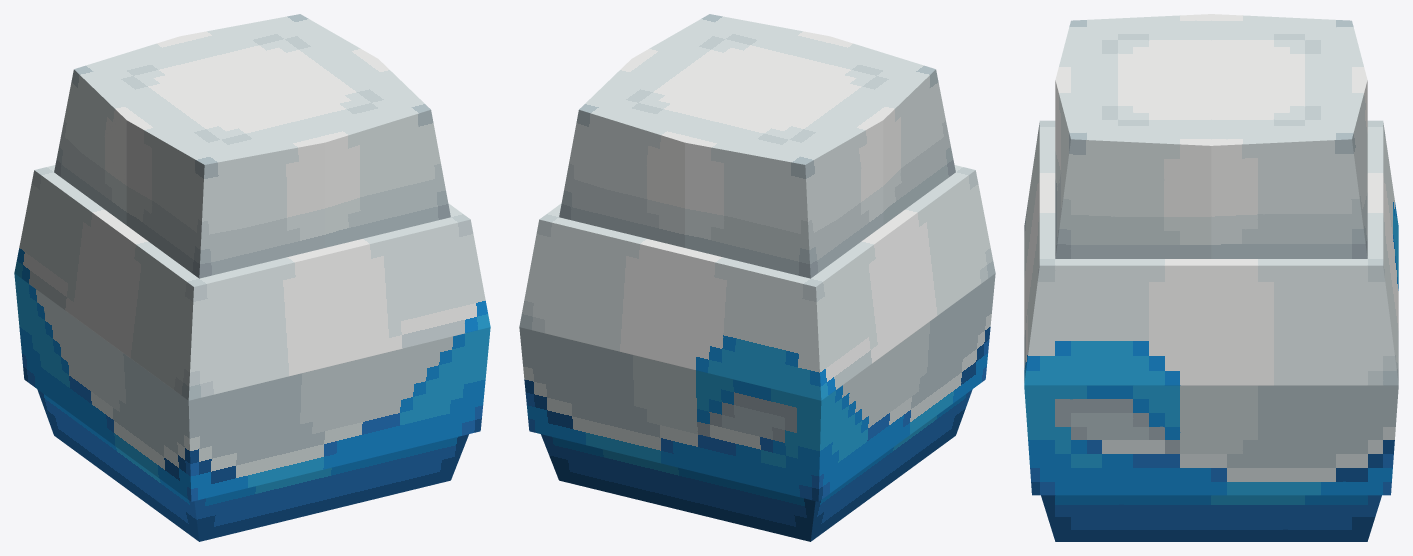
The model's file is wave-egg.gltf.
3 views of the same model, side by side, from view 1: azimuth 30°, elevation 25°; view 2: azimuth 150°, elevation 25°; view 3: azimuth 270°, elevation 25° (orthographic). The views are drawn at different scales.
Visible parts, largest first — view 1: cube (×3); view 2: cube (×3); view 3: cube (×3).
Part boxes in pixels (box(x1,y1,x2,y2)): cube (×3): box(14, 14, 490, 541); cube (×3): box(519, 14, 995, 541); cube (×3): box(1024, 14, 1398, 541).
Size of the model in its own units: 0.75 by 0.875 by 0.75.
Materials: 1 (1 with a texture image).
